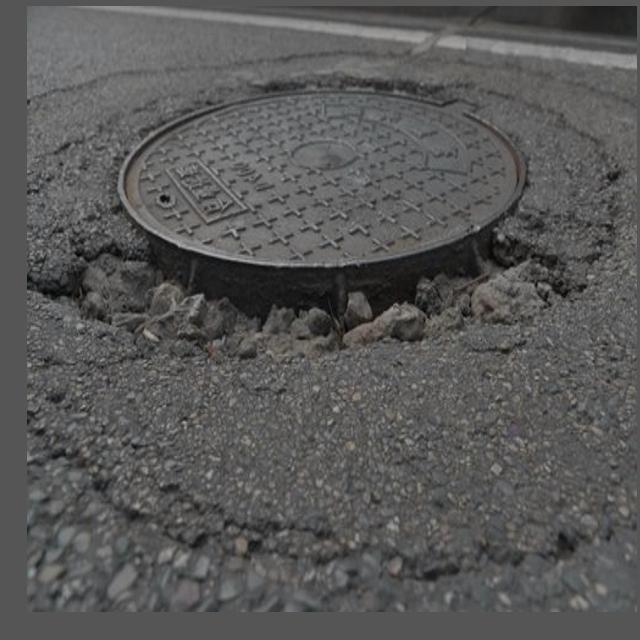circle: (49, 62, 617, 379)
